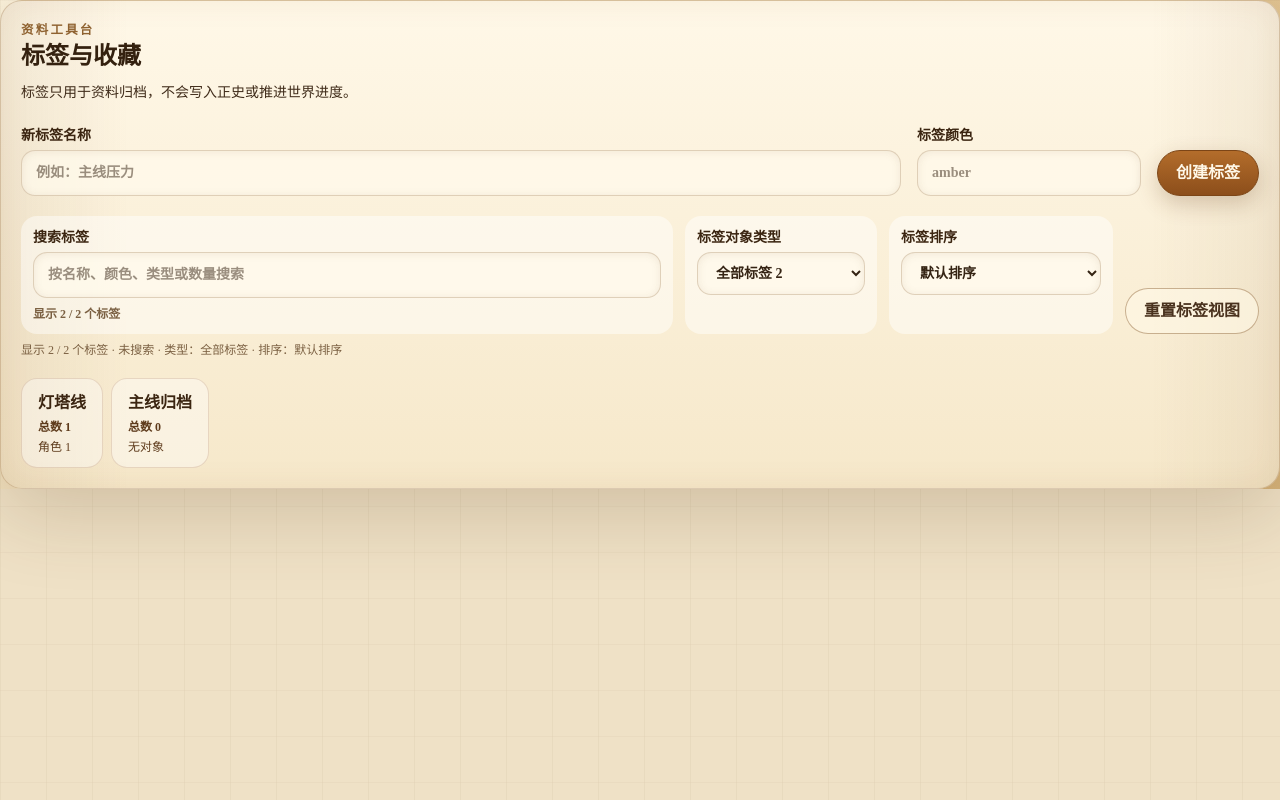
Test: WorldTagsPanel › edits the selected tag name and clears color
Check: the text "灯塔线" is shown, box top-left (38, 391), bottom-right (86, 415)
Click the button with aria-label "查看 灯塔线": (62, 423) top-left (21, 378), bottom-right (103, 468)
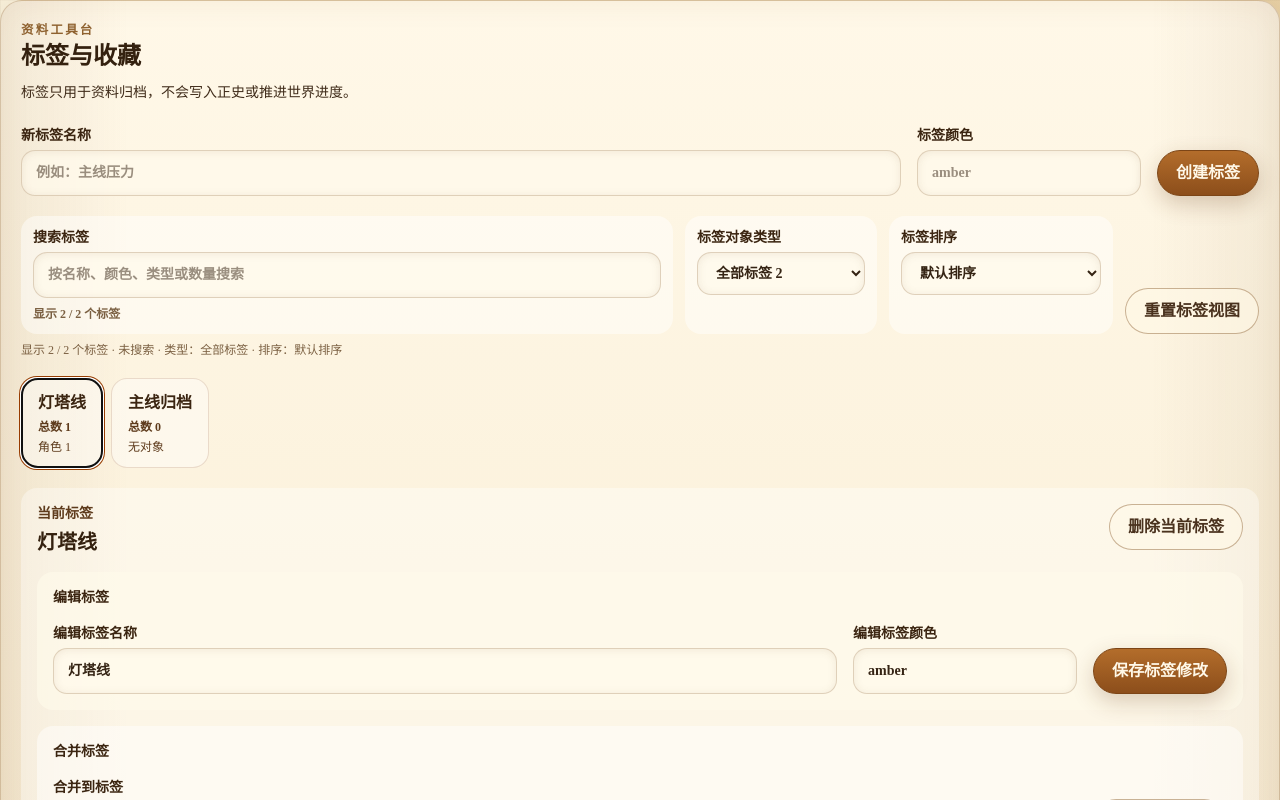
Check: the text "编辑标签" is shown, box top-left (53, 590), bottom-right (109, 605)
Replace the text in the field labelled "编辑标签名称" with " 主线压力 ": (445, 671) top-left (53, 648), bottom-right (837, 694)
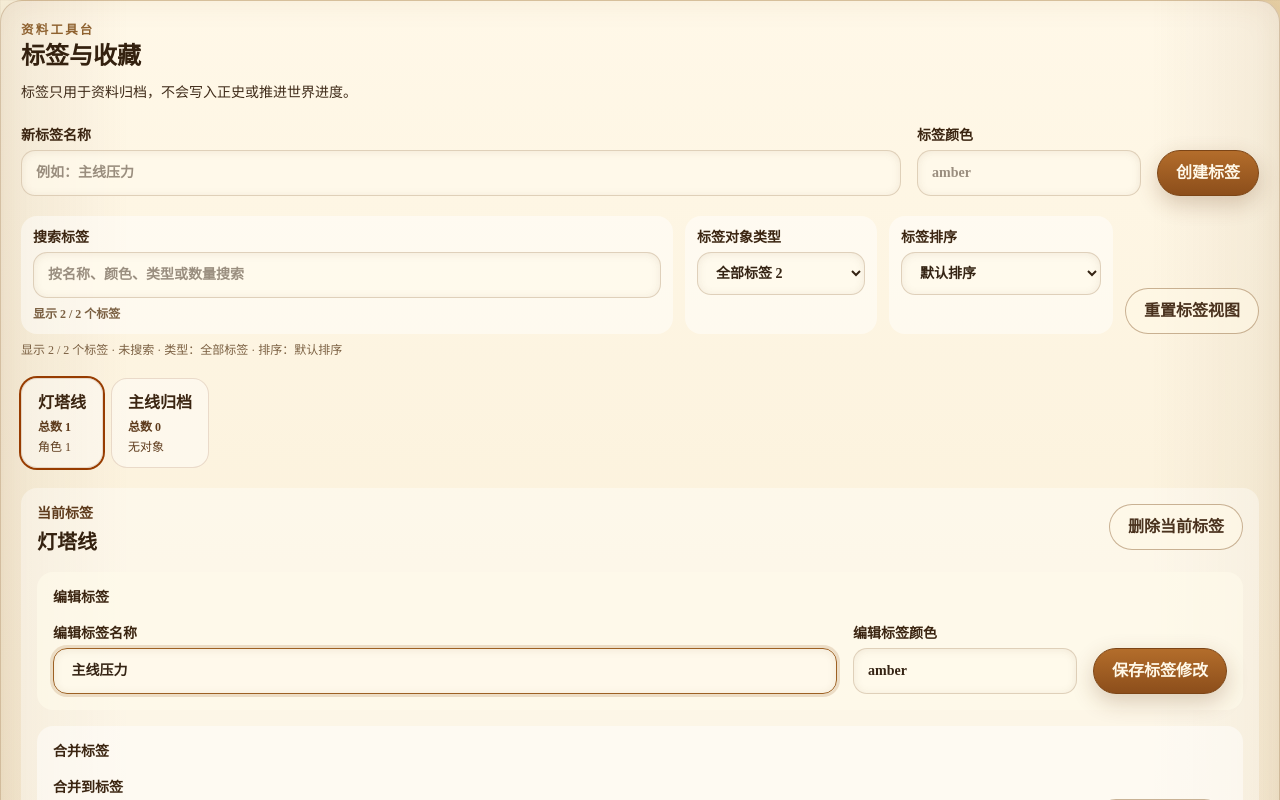
Clear the field labelled "编辑标签颜色": (965, 671) top-left (853, 648), bottom-right (1077, 694)
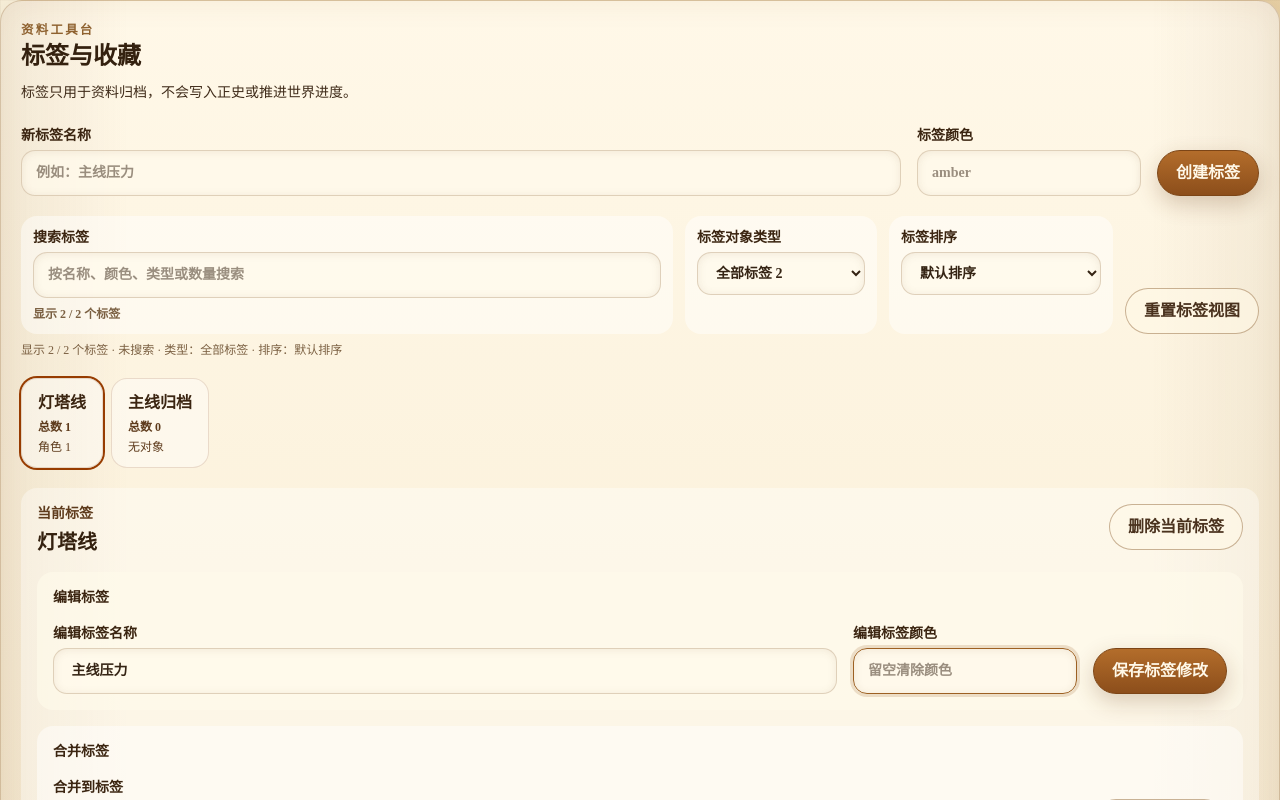
Click the button "保存标签修改": (1160, 671) top-left (1093, 648), bottom-right (1227, 694)
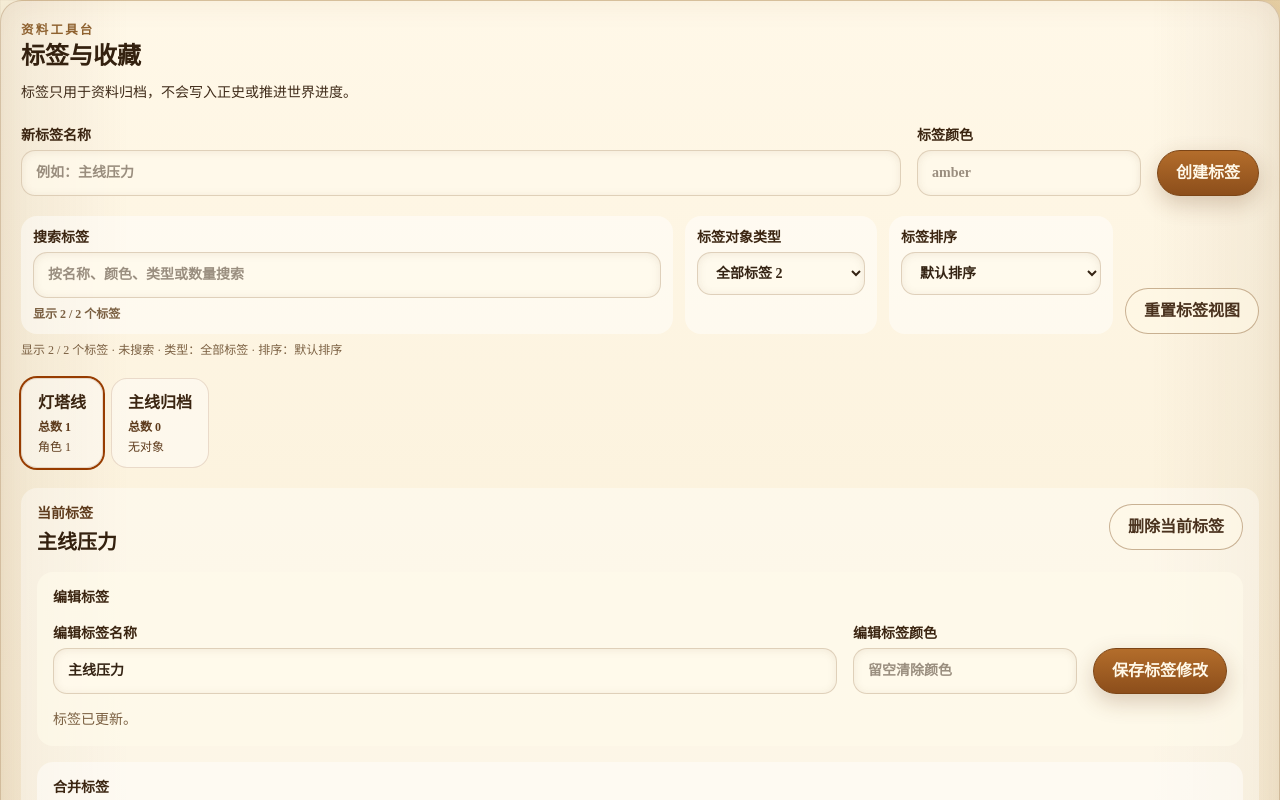
Check: the text "标签已更新。" is shown, box top-left (53, 712), bottom-right (137, 727)
